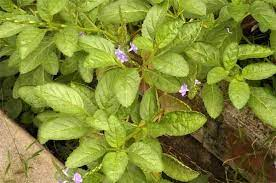snakeweed: (58, 54, 194, 162)
